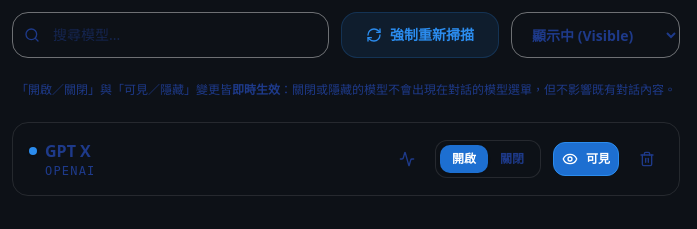
Test: ModelsTab 測試鈕（P2） › 點測試鈕 → 呼叫 testModel(id) 並顯示健康結果
Click the button named "測試".
click(407, 159)  # box [391, 143, 423, 175]
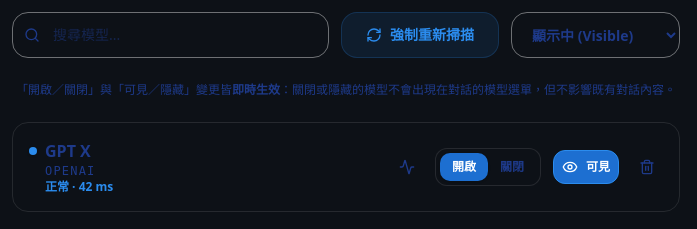
Expected: the text "正常 · 42 ms" is shown, [45, 178, 113, 195]
